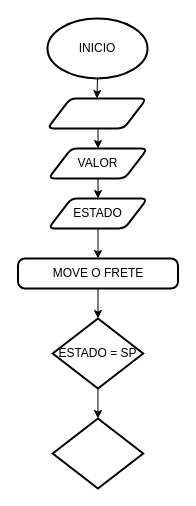
Some shapes in this 196 by 506 pixel diagram are drawn without their labels. Each missing label, with the centre of its shape:
ESTADO = RJ: (97,453)
PRODUTO: (96,113)
